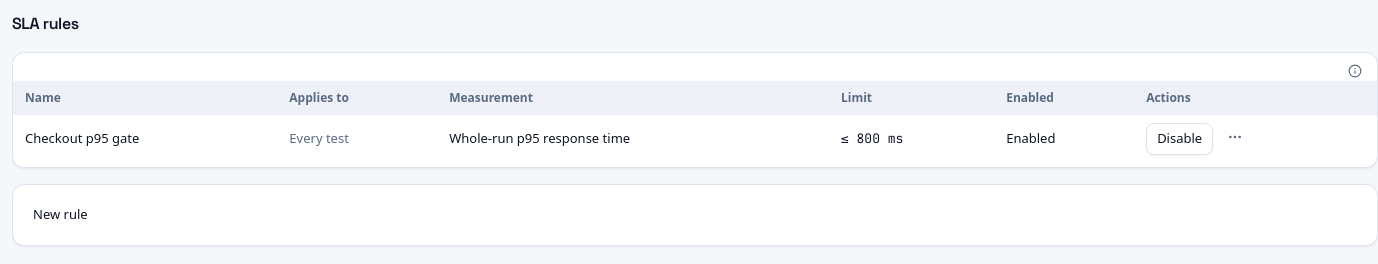
Test: ProjectRules — the table › keeps the enable control in the row and files delete behind a menu
The image size is (1378, 264).
Expected: the button "Disable" is shown, [1146,123,1213,155]
Expected: the button "delete" is not shown
Click the button named "more actions" at point(1235, 137), box [1221,123,1249,151]
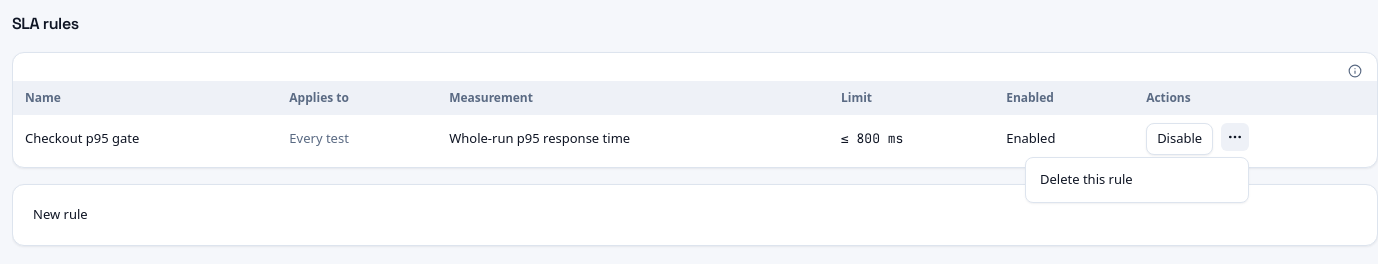
Expected: the menu item "Delete this rule" is shown, [1040,170,1133,188]
